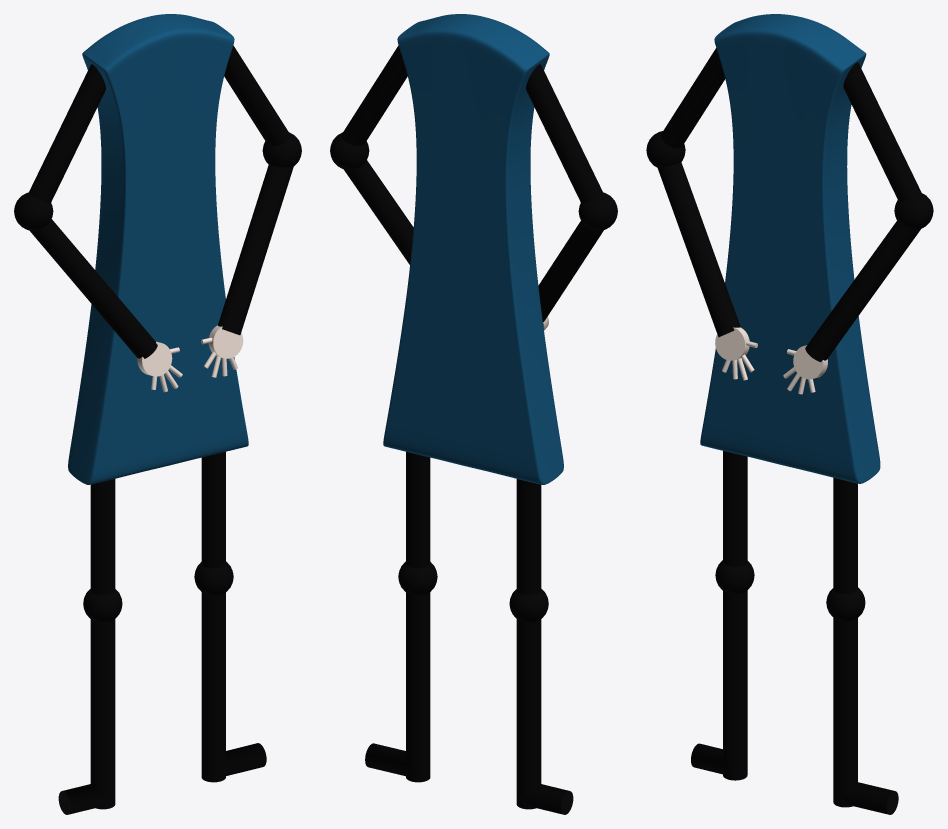
Rendered from MaleBody.dae.
The picture shows the model from 3 angles, left to right: view 1: azimuth 30°, elevation 25°; view 2: azimuth 150°, elevation 25°; view 3: azimuth 330°, elevation 25°; orthographic projection.
Visible parts, largest first — view 1: MaleBody, leftForeLeg, rightForeLeg, LeftForeArm, RightForeArm, RightUpperArm, rightUpperLeg, LeftUpperLeg, LeftUpperArm, rightUpperArmSphere, rightFoot, leftFoot (+5 smaller); view 2: MaleBody, leftForeLeg, rightForeLeg, RightUpperArm, rightUpperLeg, LeftUpperLeg, LeftUpperArm, LeftForeArm, RightForeArm, rightUpperArmSphere, rightFoot, leftFoot (+3 smaller); view 3: MaleBody, rightForeLeg, RightForeArm, leftForeLeg, LeftForeArm, LeftUpperArm, LeftUpperLeg, rightUpperLeg, RightUpperArm, leftFoot, LeftUpperArmSphere, leftUpperLegSphere (+5 smaller).
Boxes of the visible parts, x1,y1,x2,y2 form: MaleBody: [68, 14, 248, 484]; leftForeLeg: [201, 592, 225, 782]; rightForeLeg: [90, 619, 115, 809]; LeftForeArm: [218, 165, 293, 335]; RightForeArm: [30, 219, 157, 358]; RightUpperArm: [28, 64, 105, 202]; rightUpperLeg: [90, 479, 115, 594]; LeftUpperLeg: [201, 451, 225, 568]; LeftUpperArm: [224, 45, 290, 145]; rightUpperArmSphere: [14, 192, 53, 230]; rightFoot: [58, 784, 113, 814]; leftFoot: [223, 743, 266, 775]; MaleBody: [383, 14, 563, 484]; leftForeLeg: [406, 592, 430, 782]; rightForeLeg: [516, 619, 541, 809]; RightUpperArm: [526, 64, 603, 202]; rightUpperLeg: [516, 479, 541, 594]; LeftUpperLeg: [406, 451, 430, 568]; LeftUpperArm: [341, 45, 407, 145]; LeftForeArm: [344, 160, 413, 264]; RightForeArm: [538, 221, 603, 321]; rightUpperArmSphere: [578, 192, 617, 230]; rightFoot: [518, 784, 573, 814]; leftFoot: [365, 743, 408, 776]; MaleBody: [700, 14, 880, 483]; rightForeLeg: [723, 590, 747, 780]; RightForeArm: [657, 162, 740, 337]; leftForeLeg: [833, 618, 857, 807]; LeftForeArm: [805, 221, 920, 361]; LeftUpperArm: [843, 62, 921, 201]; LeftUpperLeg: [833, 477, 857, 593]; rightUpperLeg: [723, 451, 747, 566]; RightUpperArm: [661, 48, 725, 148]; leftFoot: [844, 782, 898, 814]; LeftUpperArmSphere: [894, 193, 933, 229]; leftUpperLegSphere: [826, 587, 865, 621].
Bounding box in the file's own units: 133 × 345 × 36.69.
